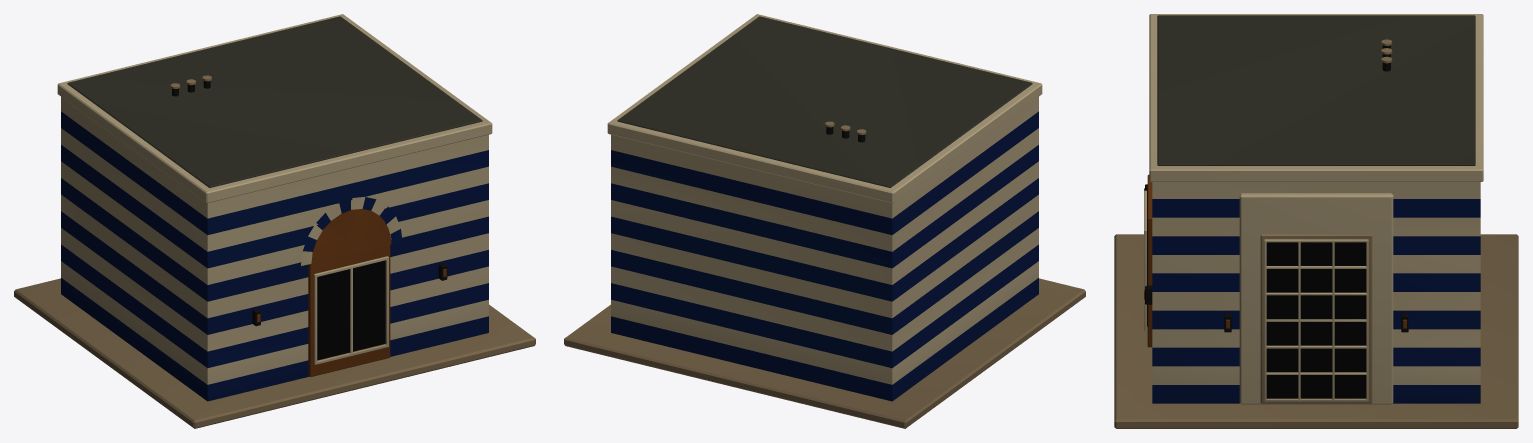
The model's file is epstein.fbx.
3 renders of one model, left to right at view 1: azimuth 30°, elevation 25°; view 2: azimuth 150°, elevation 25°; view 3: azimuth 270°, elevation 25°, orthographic. The views are drawn at different scales.
Parts seen in each view (by area): view 1: epstein; view 2: epstein; view 3: epstein.
Part boxes in pixels (box(x1,y1,x2,y2)): epstein: box(14, 14, 535, 428); epstein: box(564, 14, 1085, 428); epstein: box(1114, 14, 1518, 428).
Size of what is drawn, in the model's own units: 7.55 by 6.9 by 4.85.
